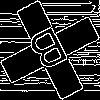B: (25, 25, 76, 81)
